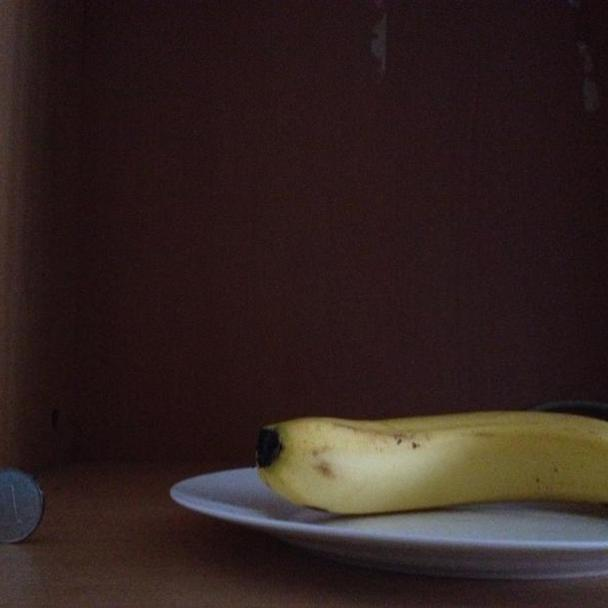banana: (255, 406, 608, 515)
